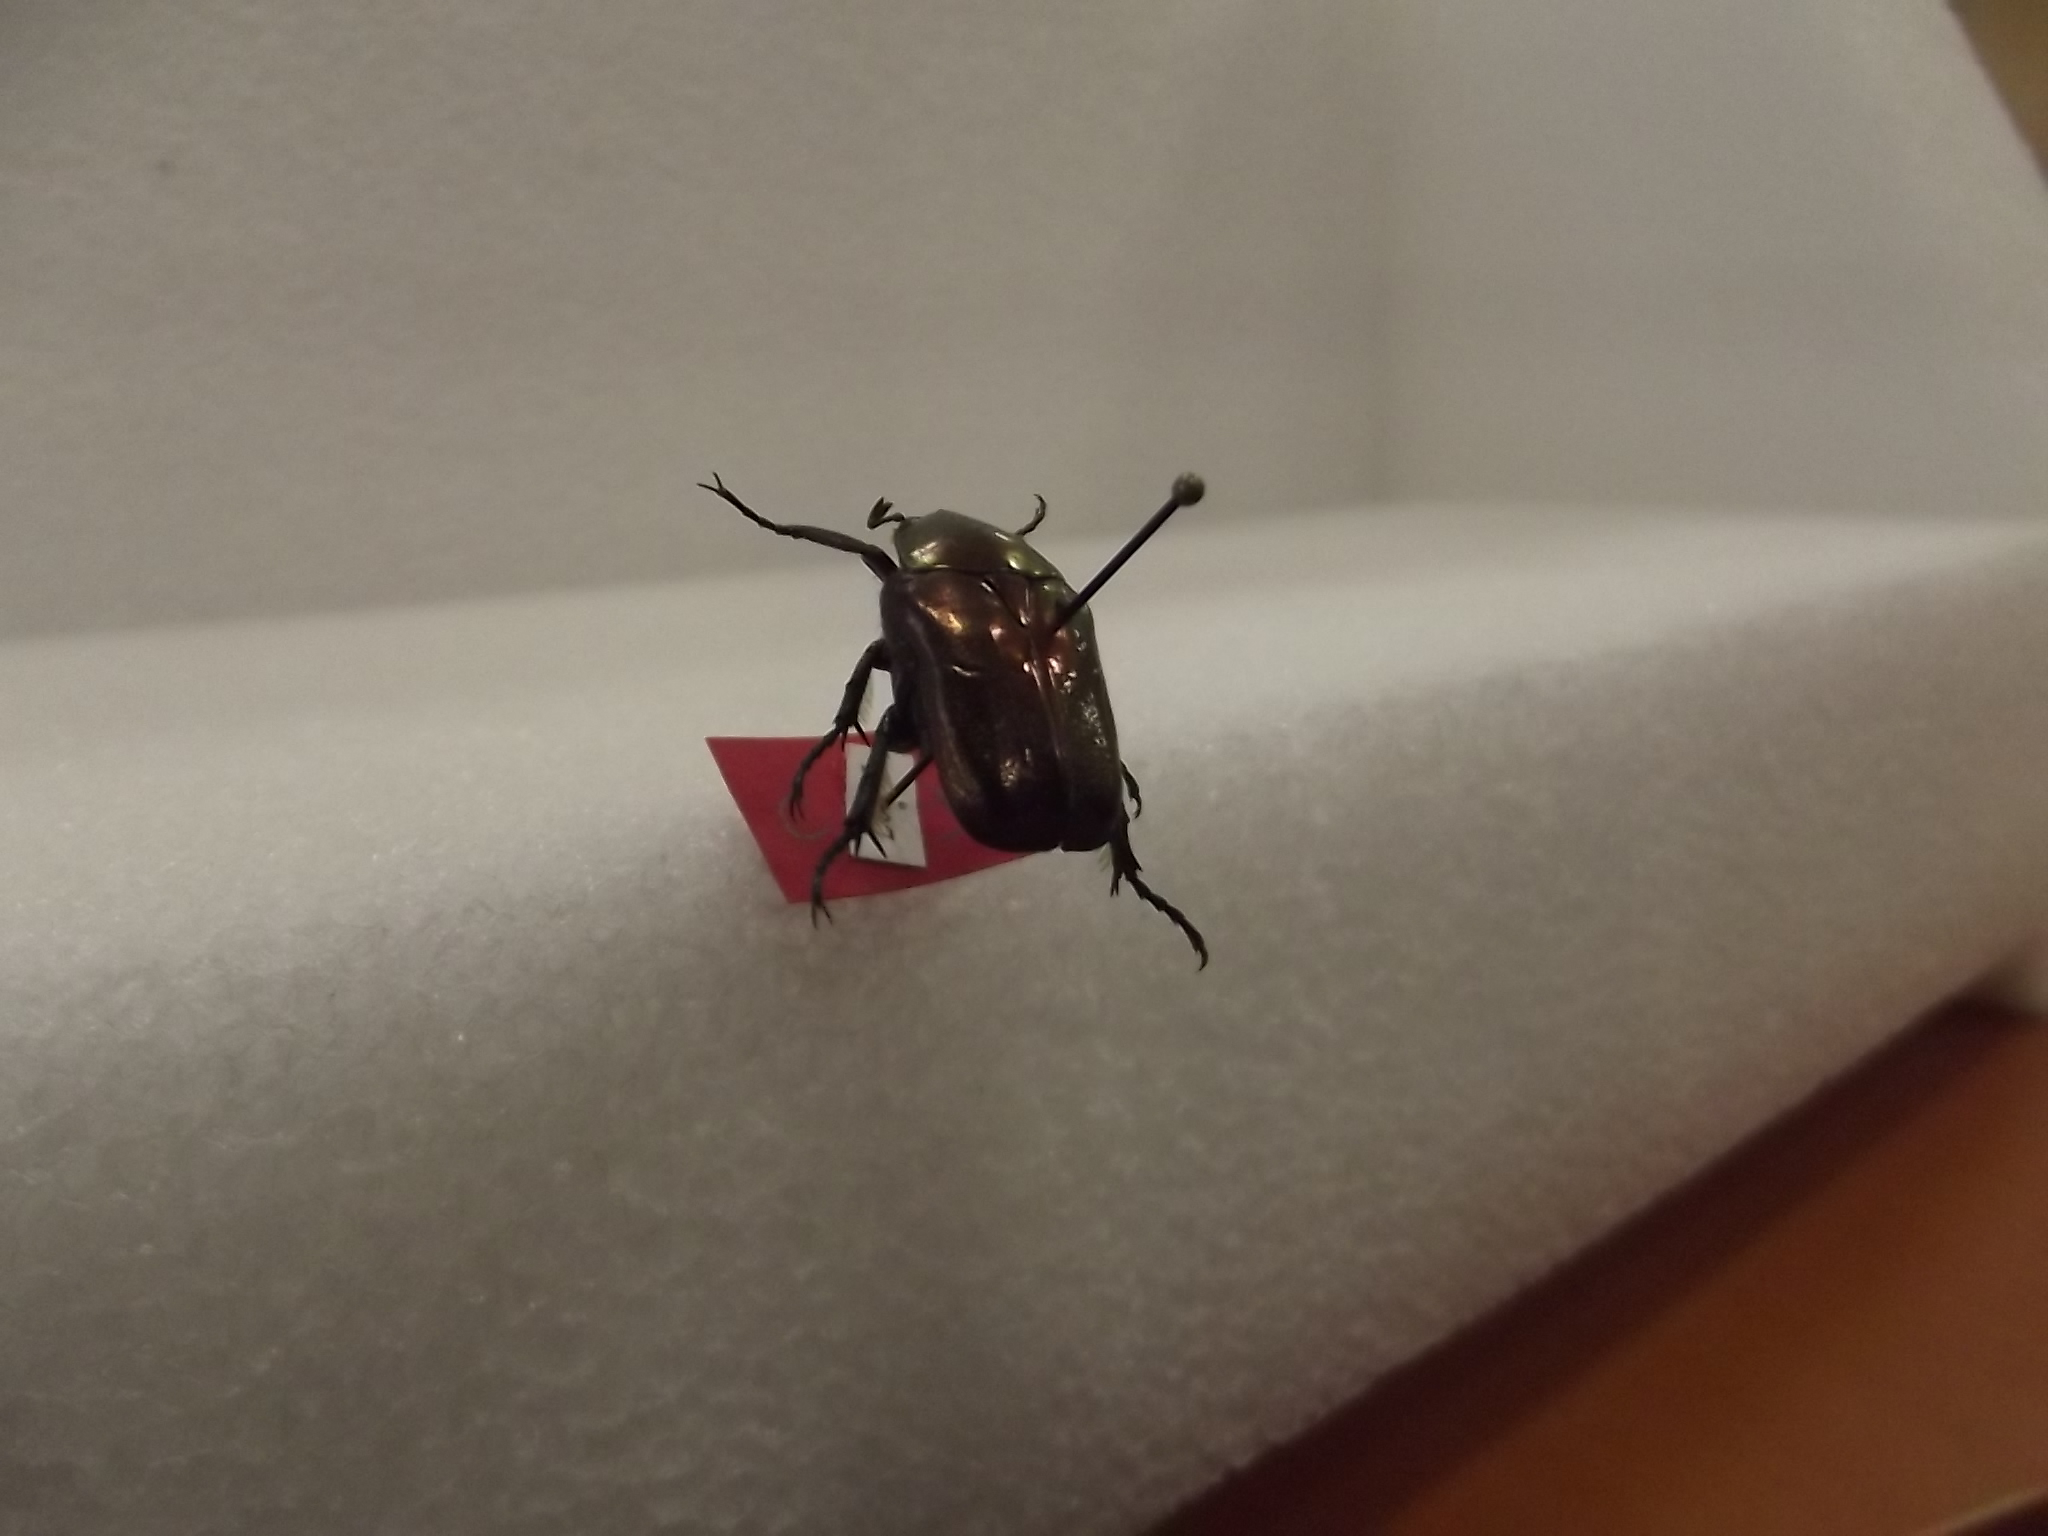Protaetia_besucheti: (679, 449, 1221, 989)
